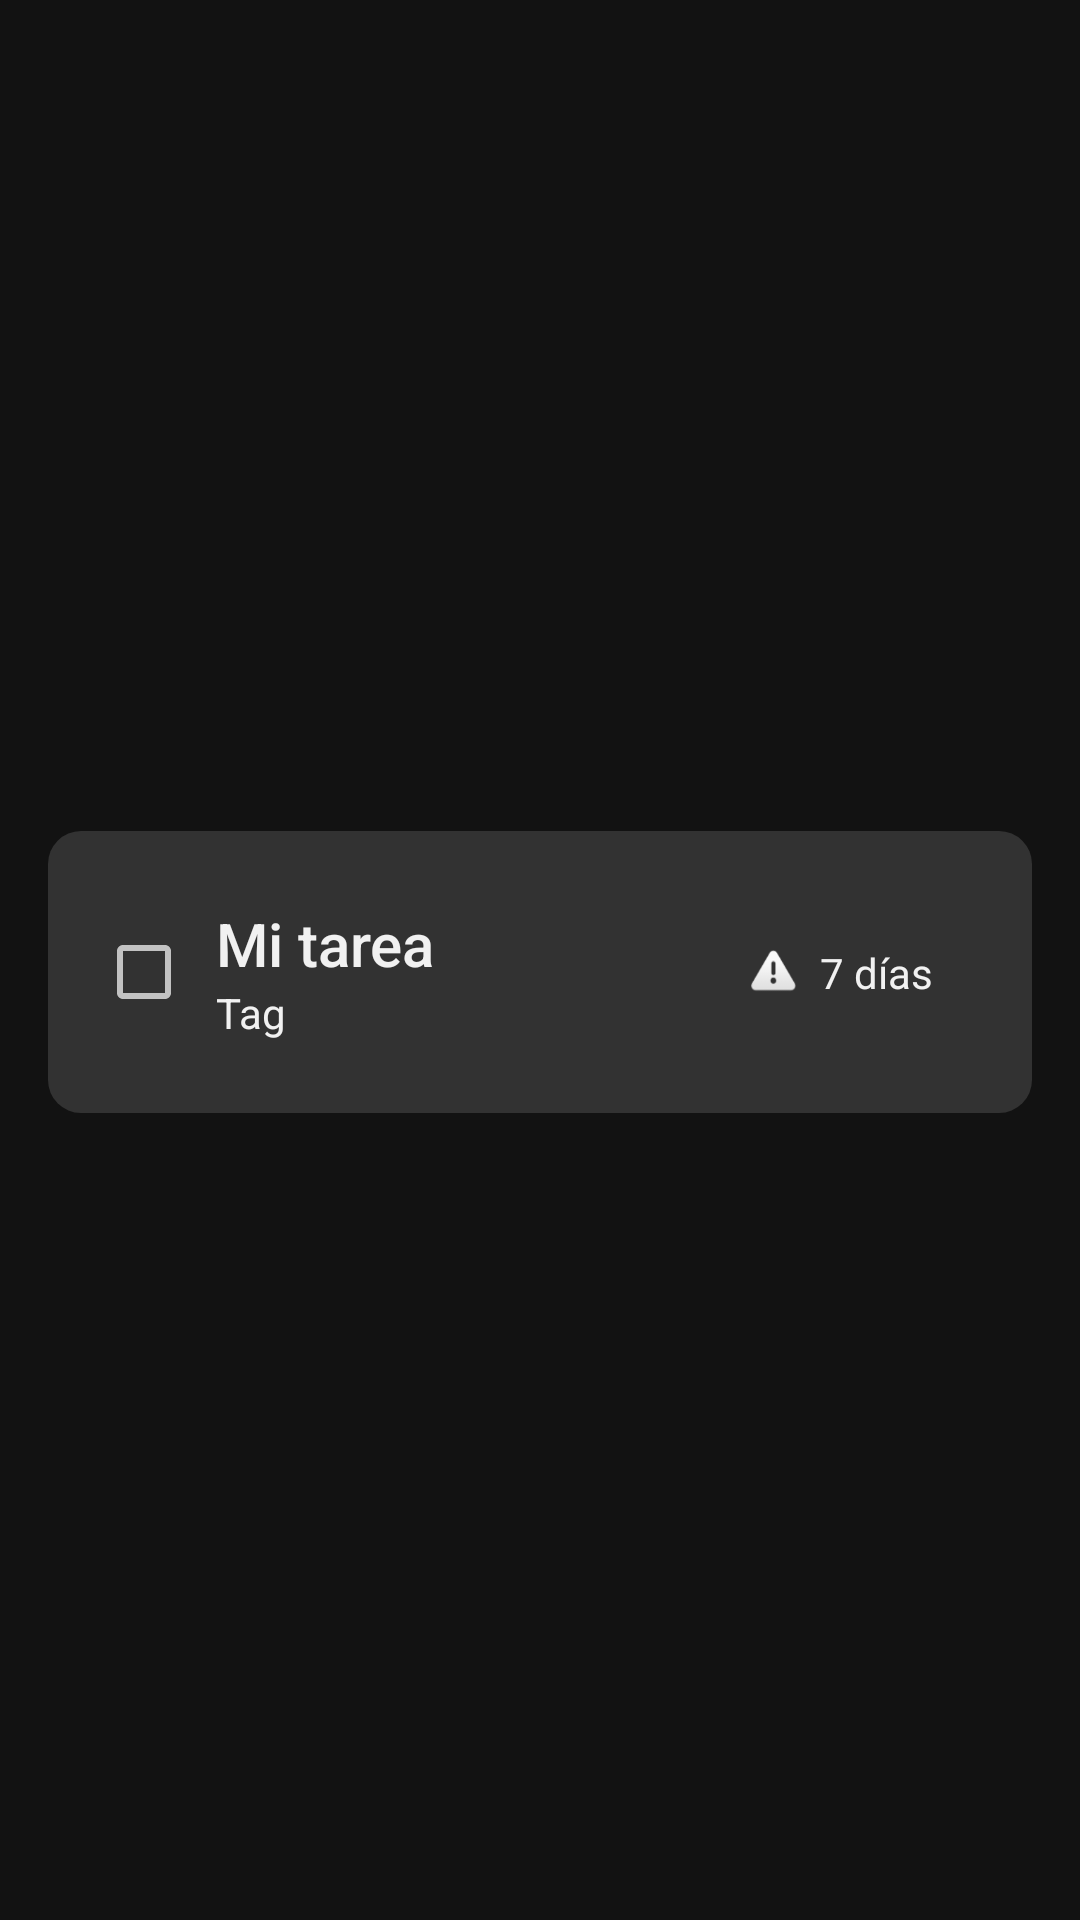

Icon click points for this 1080x1920 phone screenshot, format (x=x, y=y):
alert: (x=773, y=970)
